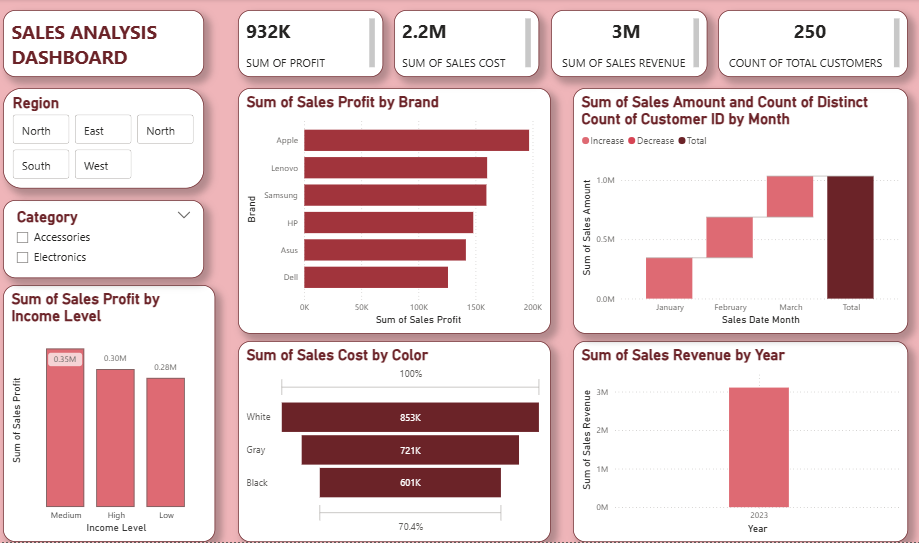

The page's visual inventory and layout, read from the dashboard file:
{"tool":"powerbi","page":{"name":"Page 1","canvas":[1332,778],"ordinal":0},"visuals":[{"type":"barChart","fields":{"Category":["Products.Brand"],"Y":["Sum(Sales.Sales Profit)"]},"box":[352,128,448,352],"z":0},{"type":"lineStackedColumnComboChart","fields":{"Category":["Customers.Income Level"],"Y":["Sum(Sales.Sales Profit)"]},"box":[16,410,304,368],"z":1000},{"type":"lineClusteredColumnComboChart","fields":{"Category":["Sales.Sales Date.Variation.Date Hierarchy.Year"],"Y":["Sum(Sales.Sales  Revenue)"]},"box":[832,490,480,288],"z":2000},{"type":"waterfallChart","title":"Sum of Sales Amount and Count of Distinct Count of Customers  by Month","fields":{"Category":["Sales.Sales Date.Variation.Date Hierarchy.Month"],"Y":["Sum(Sales.Sales Amount)"]},"box":[832,128,480,352],"z":3000},{"type":"funnel","fields":{"Category":["Products.Color"],"Y":["Sum(Sales.Sales Cost)"]},"box":[352,490,448,288],"z":4000},{"type":"slicer","fields":{"Values":["Products.Category"]},"box":[16,288,288,112],"z":5000},{"type":"textbox","box":[576,16,208,96],"z":6000},{"type":"textbox","box":[352,16,208,96],"z":7000},{"type":"textbox","box":[800,16,224,96],"z":8000},{"type":"textbox","box":[1040,16,272,96],"z":9000},{"type":"textbox","box":[16,16,288,96],"z":10000},{"type":"advancedSlicerVisual","fields":{"Values":["Customers.Region"]},"box":[16,128,288,144],"z":11000}]}

Visuals, with their boxes in screenshot pixels (x1, y1, x2, y2), scaled from the page's 1332x778 canvas onto the 919x543 screenshot:
barChart - Products.Brand x Sum(Sales.Sales Profit): l=243, t=89, r=552, b=335
lineStackedColumnComboChart - Customers.Income Level x Sum(Sales.Sales Profit): l=11, t=286, r=221, b=542
lineClusteredColumnComboChart - Sales.Sales Date.Variation.Date Hierarchy.Year x Sum(Sales.Sales  Revenue): l=574, t=342, r=905, b=542
"Sum of Sales Amount and Count of Distinct Count of Customers  by Month" waterfallChart: l=574, t=89, r=905, b=335
funnel - Products.Color x Sum(Sales.Sales Cost): l=243, t=342, r=552, b=542
slicer - Products.Category: l=11, t=201, r=210, b=279
textbox: l=397, t=11, r=541, b=78
textbox: l=243, t=11, r=386, b=78
textbox: l=552, t=11, r=706, b=78
textbox: l=718, t=11, r=905, b=78
textbox: l=11, t=11, r=210, b=78
advancedSlicerVisual - Customers.Region: l=11, t=89, r=210, b=190
